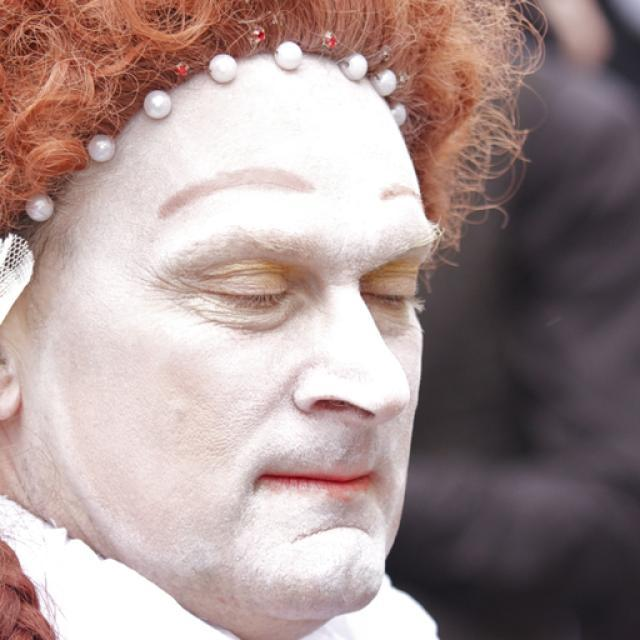neutral: (20, 46, 440, 624)
